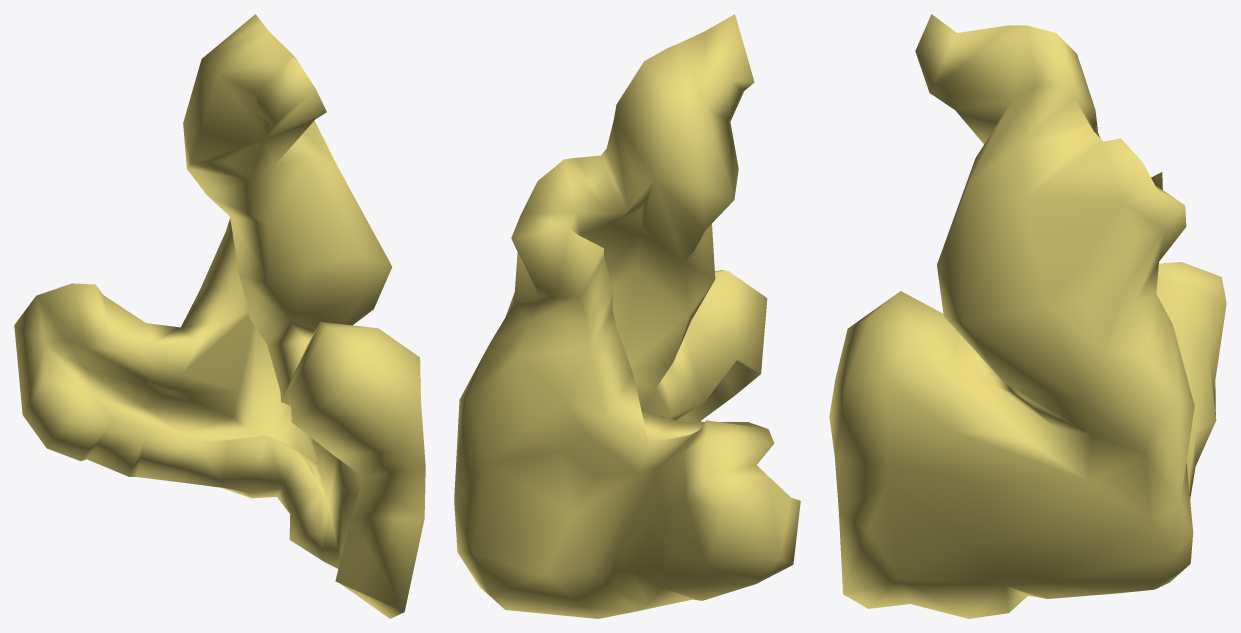
File: triangular-part-of-inferior-frontal-gyrus-l.glb
The picture shows the model from 3 angles, left to right: view 1: azimuth 30°, elevation 25°; view 2: azimuth 150°, elevation 25°; view 3: azimuth 270°, elevation 25°; orthographic projection. The views are drawn at different scales.
Visible parts, largest first — view 1: Triangular part of inferior frontal gyrus.l; view 2: Triangular part of inferior frontal gyrus.l; view 3: Triangular part of inferior frontal gyrus.l.
Boxes of the visible parts, x1,y1,x2,y2 form: Triangular part of inferior frontal gyrus.l: (14, 14, 425, 618); Triangular part of inferior frontal gyrus.l: (454, 14, 800, 618); Triangular part of inferior frontal gyrus.l: (829, 14, 1226, 618).
Size of the model in its own units: 0.0205 by 0.0353 by 0.0224.
